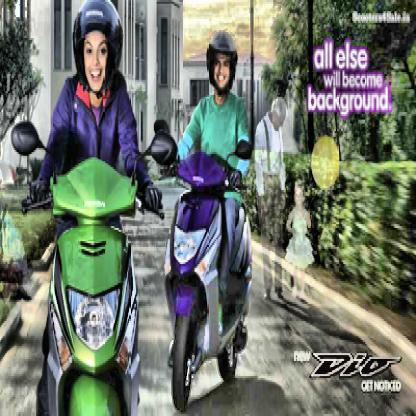wear: (75, 0, 117, 91), (208, 29, 233, 100)
